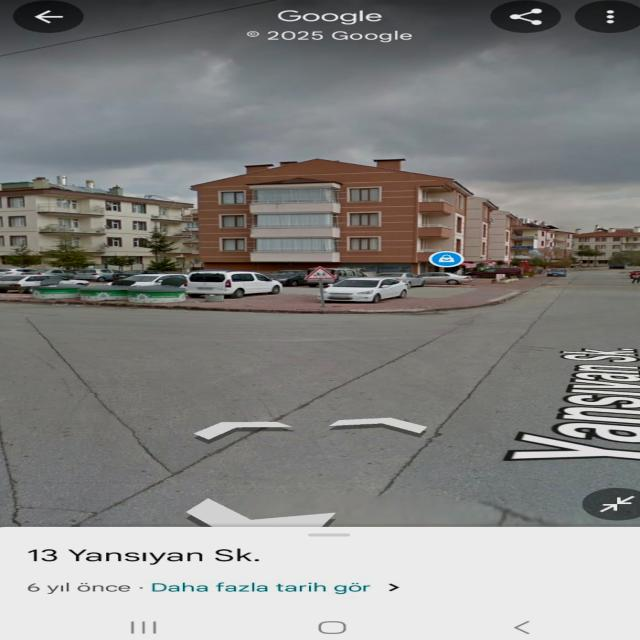okul_gecidi: (304, 266, 338, 279)
